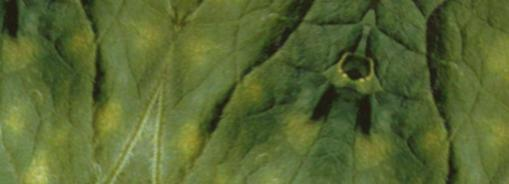Tomato mold leaf: (98, 0, 411, 184)
